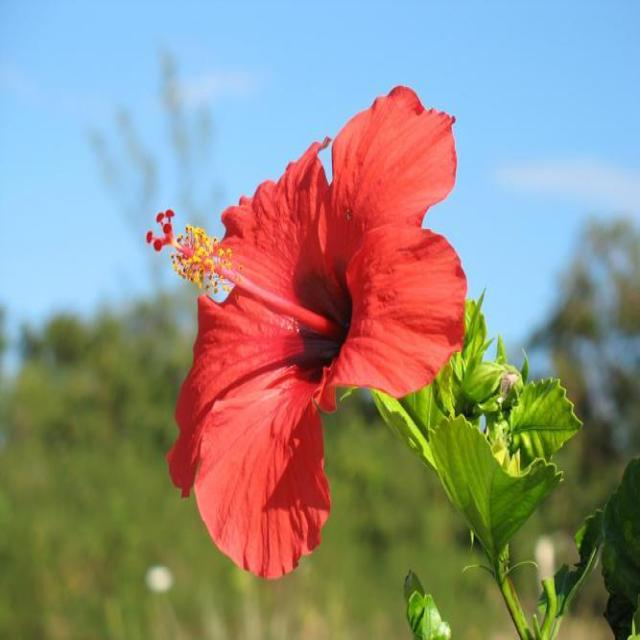hibiscus: (133, 20, 582, 638)
